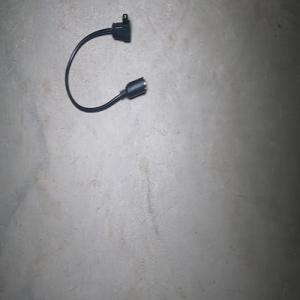Wire: (64, 13, 146, 113)
